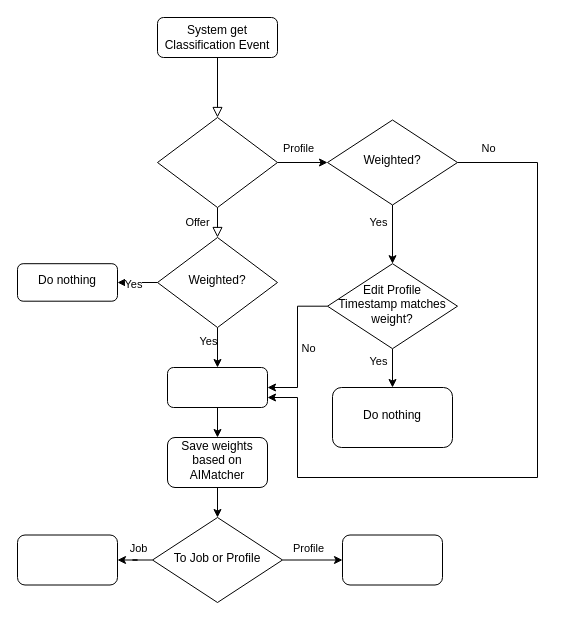
Some shapes in this 563 by 620 pixel diagram are drawn without their labels. Here are the shapes that lost their labels. From the top down, the centre of each, then its label:
(217,162): Offer Or Profile
(217,387): Preprocess job data (get tags)
(67,559): Update weight ID to Job Offer
(392,559): Update weight ID to Profile
